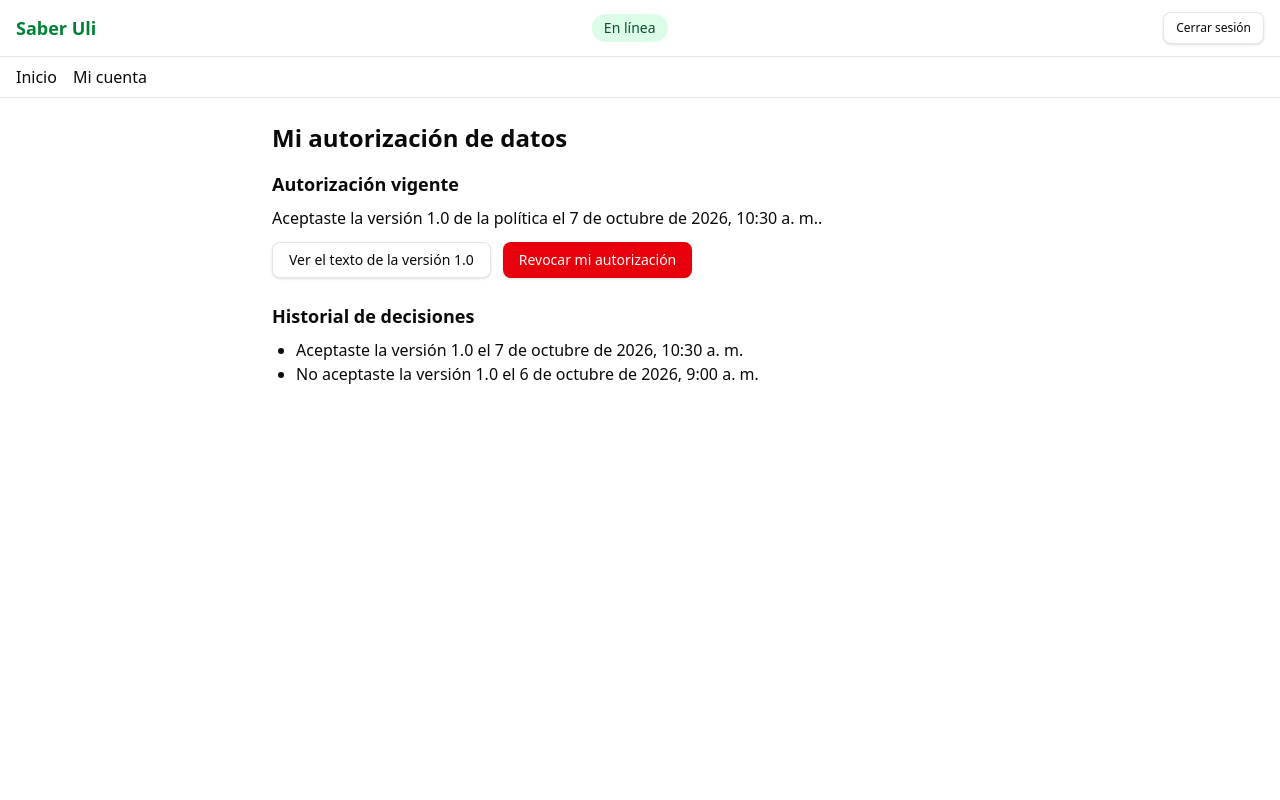
it: mi autorización de datos › confirmar revoca, borra la sesión local y ofrece ingresar de nuevo (escenario 2.5)
Click the button "Revocar mi autorización" at (598, 260), box left=503, top=242, right=692, bottom=278
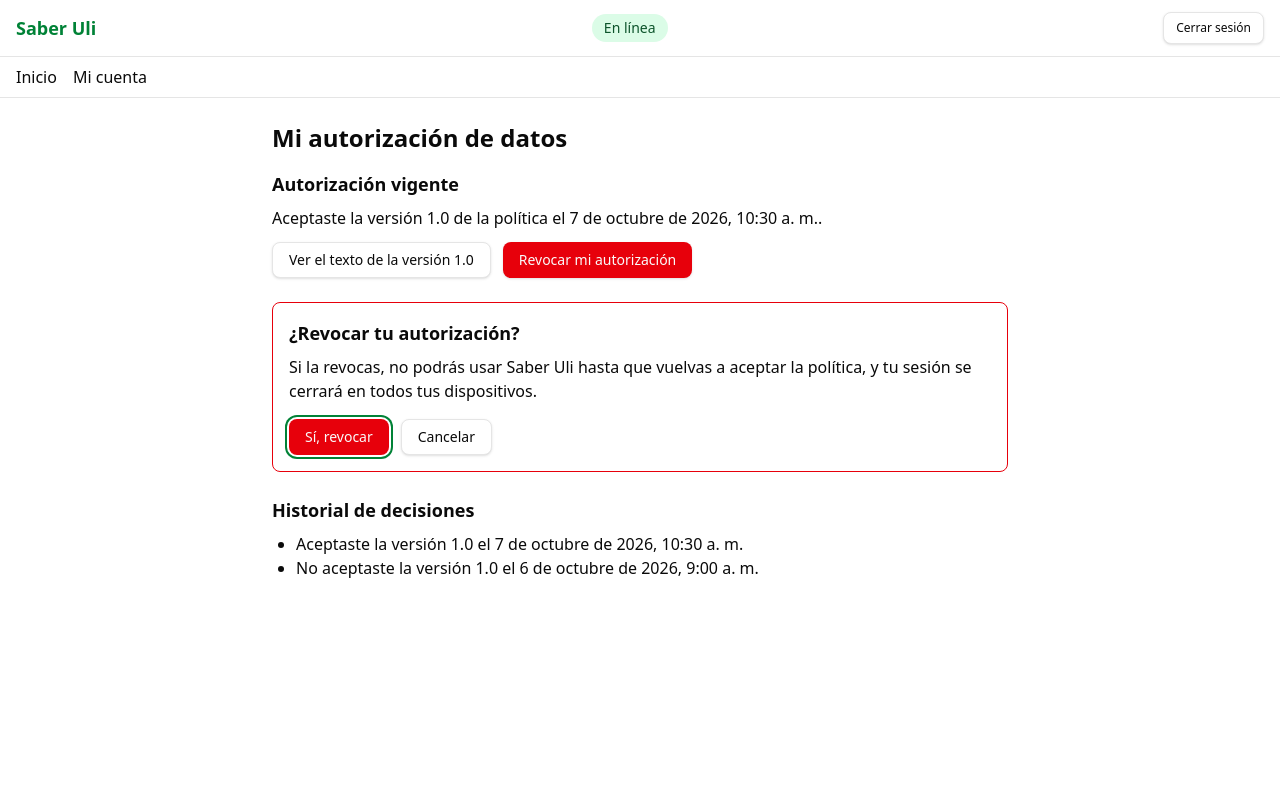
Click the button "Sí, revocar" at (339, 437), box left=289, top=419, right=389, bottom=455
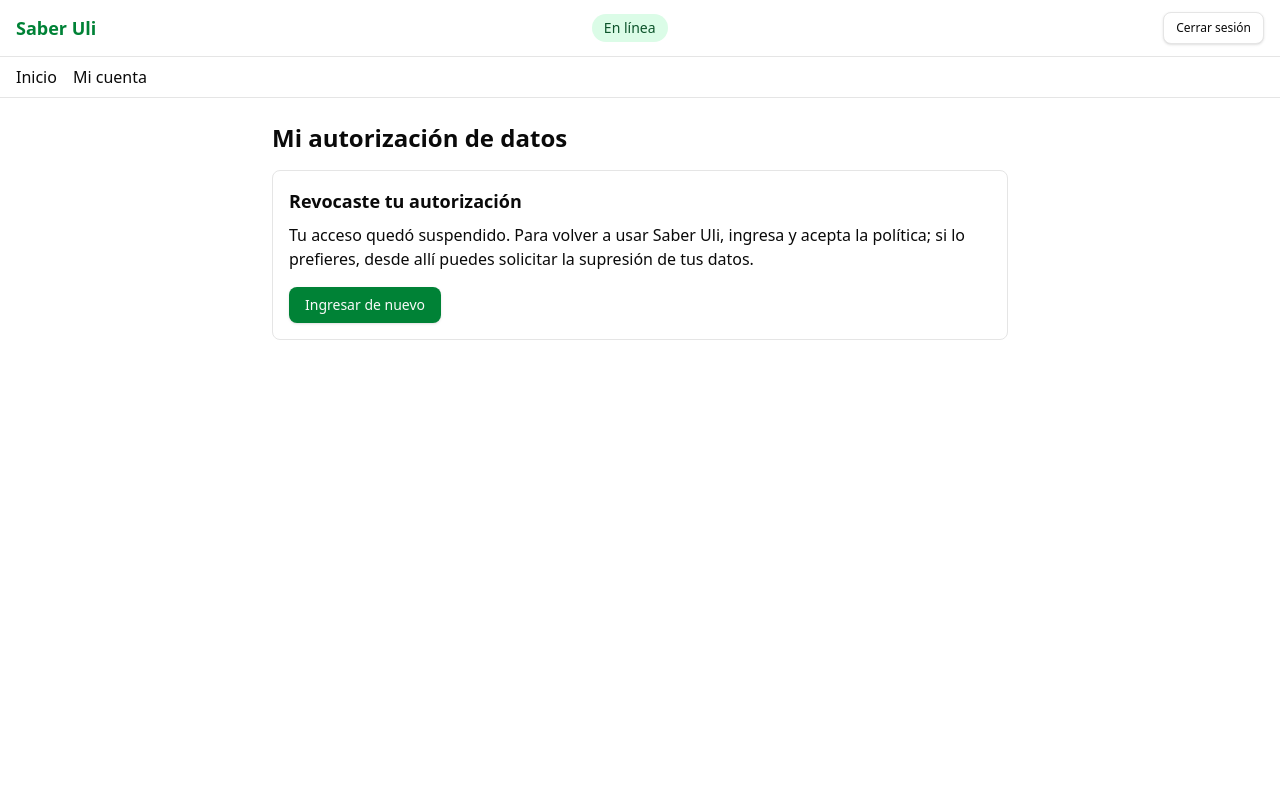
Result: the message "Revocaste tu autorización" shows "solicitar la supresión" at left=289, top=224, right=965, bottom=270
Click the button "Ingresar de nuevo" at (365, 305), box left=289, top=287, right=441, bottom=323
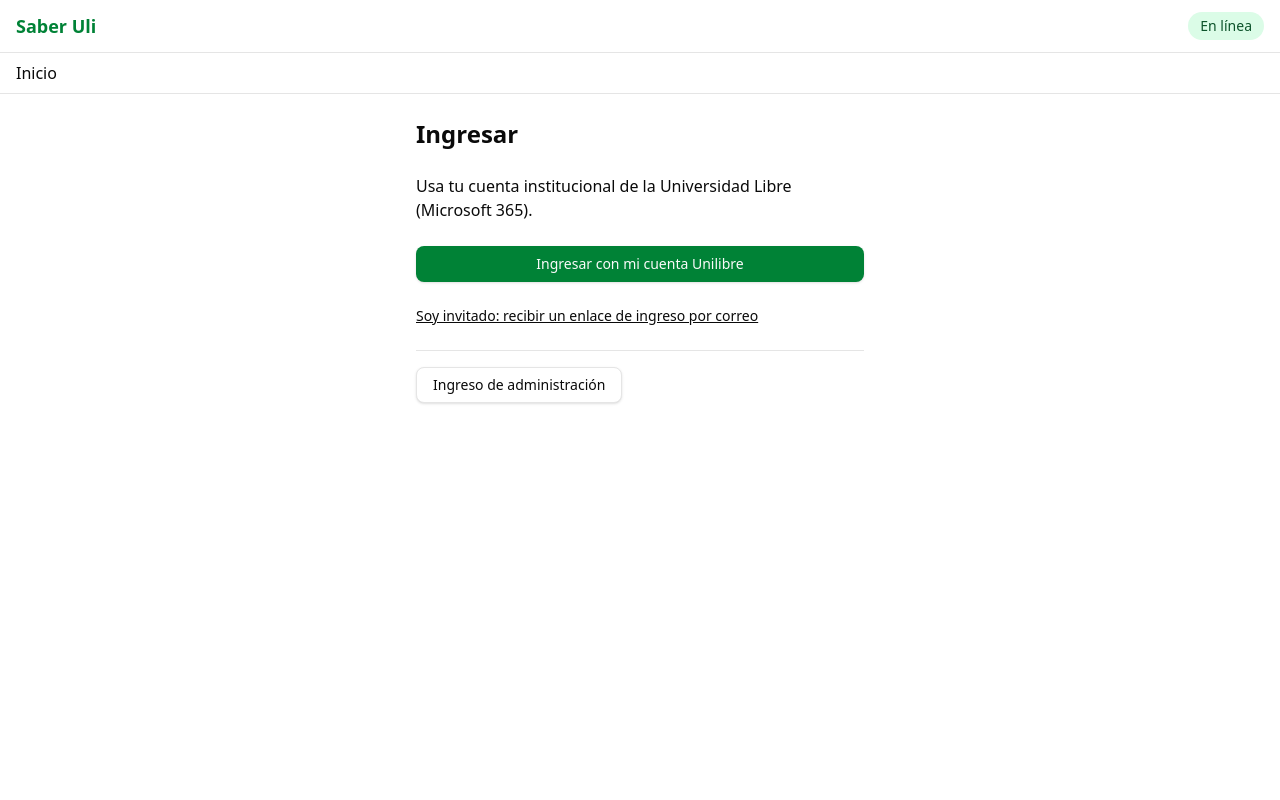
Result: the heading "Ingresar" is shown at left=416, top=117, right=518, bottom=150
